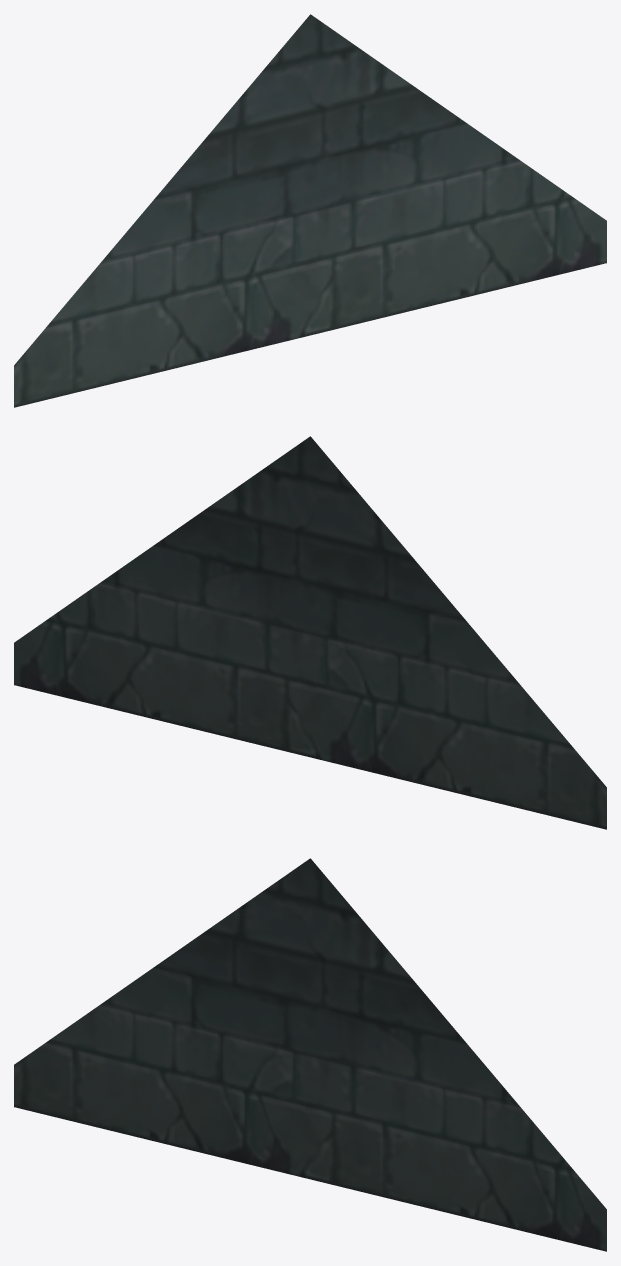
Rendered from yw_shanlin_doorwall_21.FBX.
3 views of the same model, one above another, from view 1: azimuth 30°, elevation 25°; view 2: azimuth 150°, elevation 25°; view 3: azimuth 330°, elevation 25° (orthographic).
Parts seen in each view (by area): view 1: yw_shanlin_doorwall_21; view 2: yw_shanlin_doorwall_21; view 3: yw_shanlin_doorwall_21.
Part boxes in pixels (<box>): yw_shanlin_doorwall_21: <box>14,14,606,407</box>; yw_shanlin_doorwall_21: <box>14,436,606,829</box>; yw_shanlin_doorwall_21: <box>14,858,606,1251</box>.
Size of the model in its own units: 146 by 75.68 by 3.15e-05.
